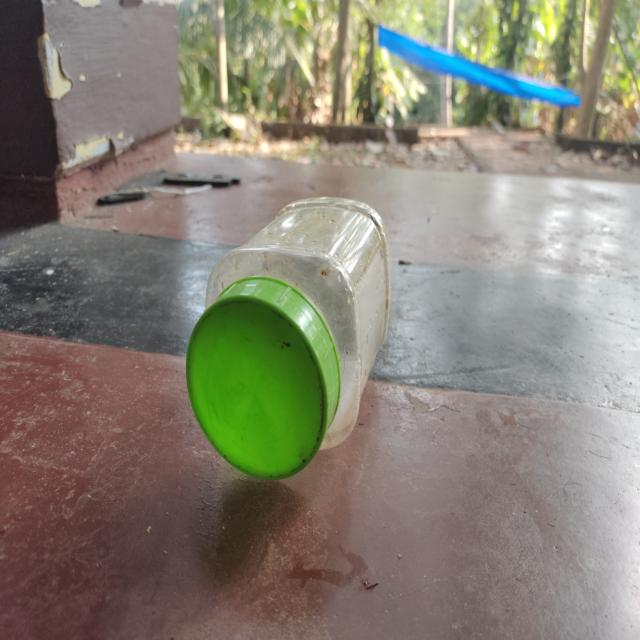plastic: (185, 194, 391, 487)
